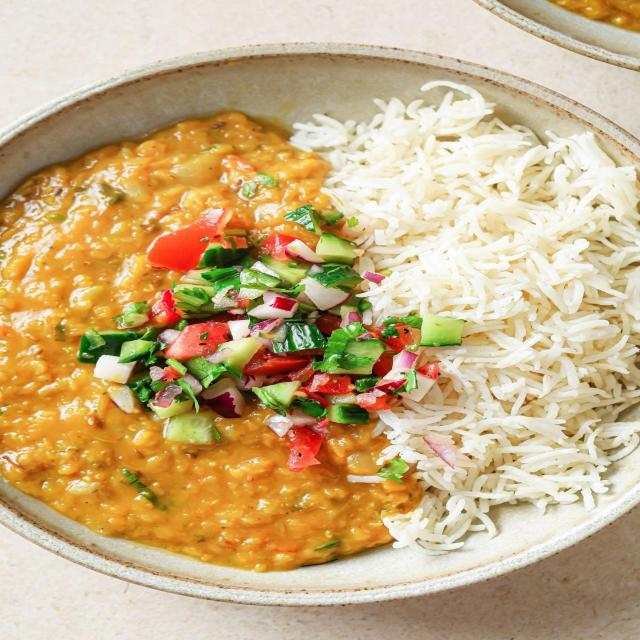dal: (0, 107, 428, 570)
rice: (282, 77, 640, 553)
